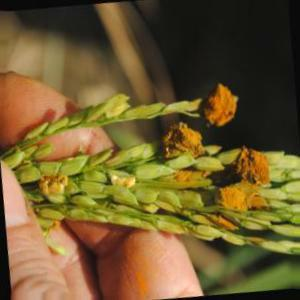Leaf_Scald: (226, 150, 272, 215), (207, 88, 241, 122), (168, 126, 199, 158), (36, 169, 68, 196)
